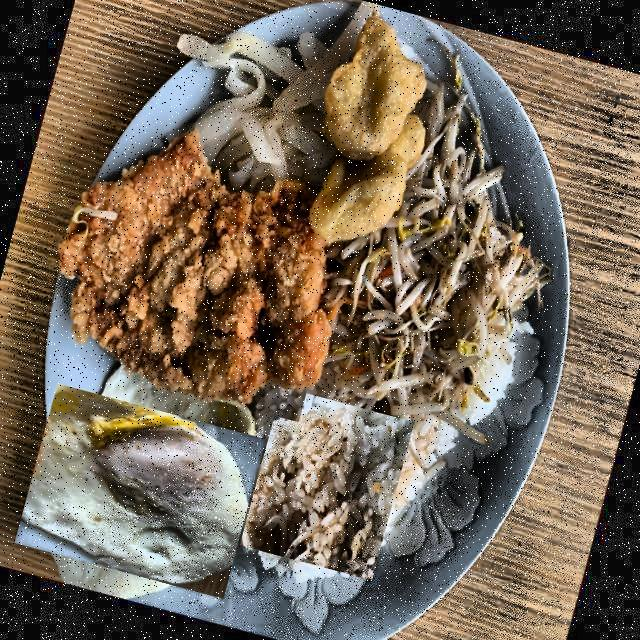Food: (36, 121, 360, 422), (22, 374, 256, 608), (344, 116, 520, 422), (238, 386, 414, 581), (296, 32, 442, 250)
